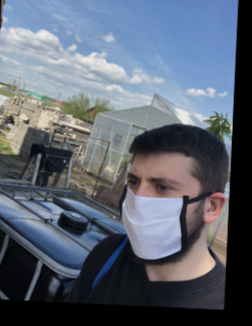with_mask: (117, 167, 192, 263)
